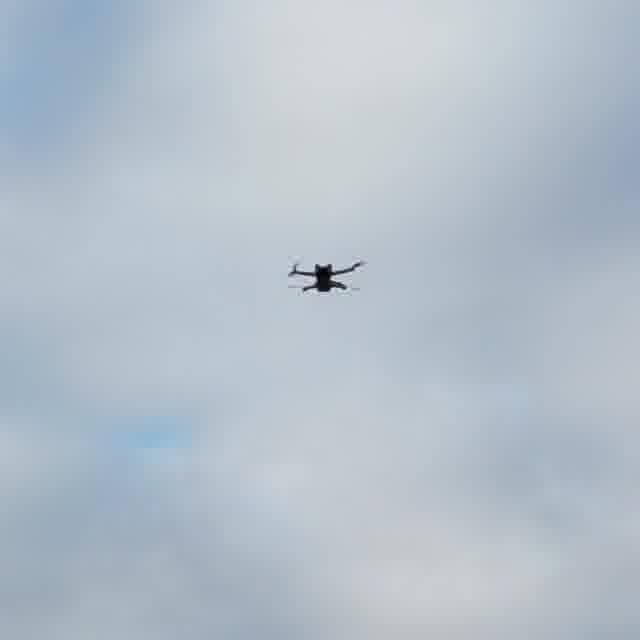Drohne: (289, 261, 363, 291)
